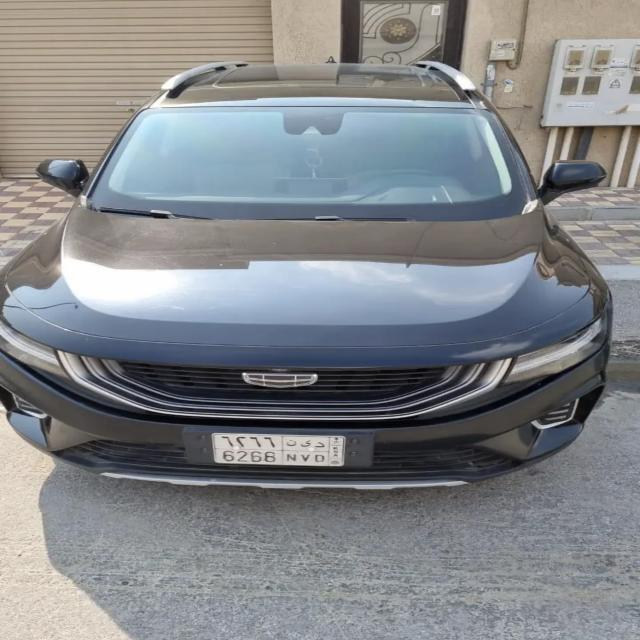license_plate: (210, 431, 344, 466)
